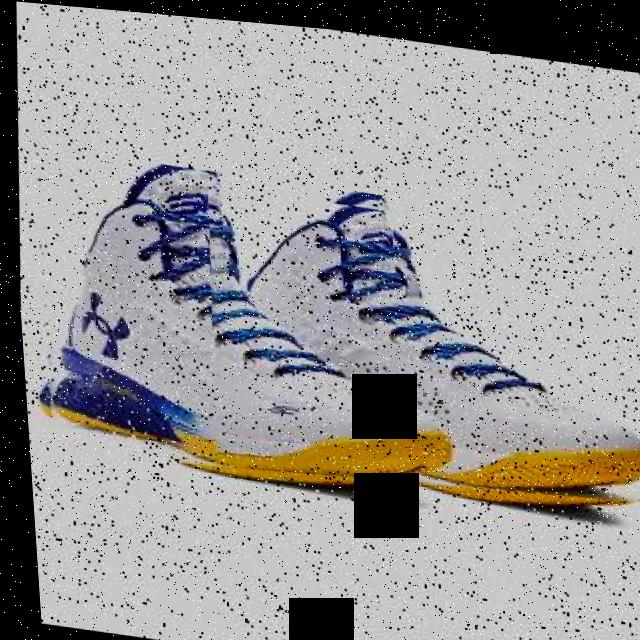shoe: (16, 145, 456, 501), (191, 181, 640, 514)
